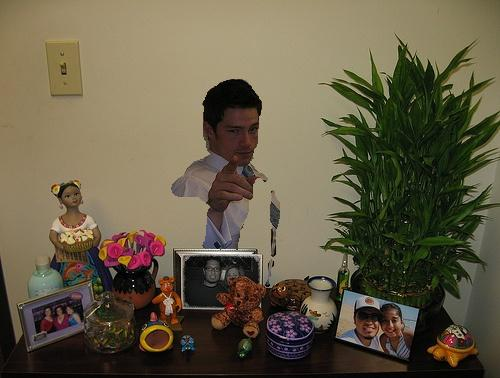tampered: (172, 80, 280, 287)
